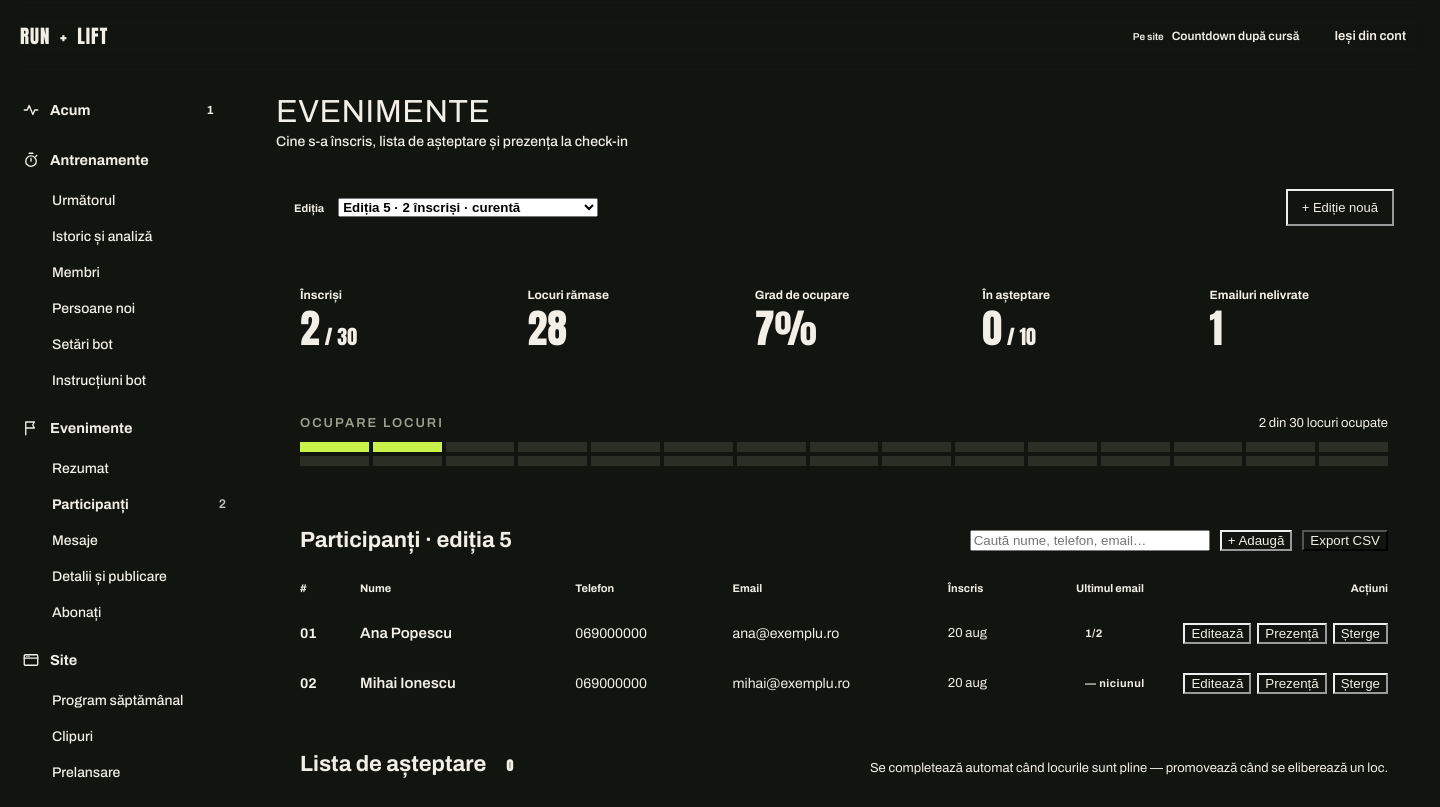
Test: AdminDashboard — căutarea în participanți › filtrează după email
The width and height of the screenshot is (1440, 807).
Expected: the text "Ana Popescu" is shown, x1=360 y1=625 x2=452 y2=641
Type "mihai@exemplu.ro" into the search field named "Caută în lista de participanți" at (1090, 540), box x1=970 y1=530 x2=1210 y2=550
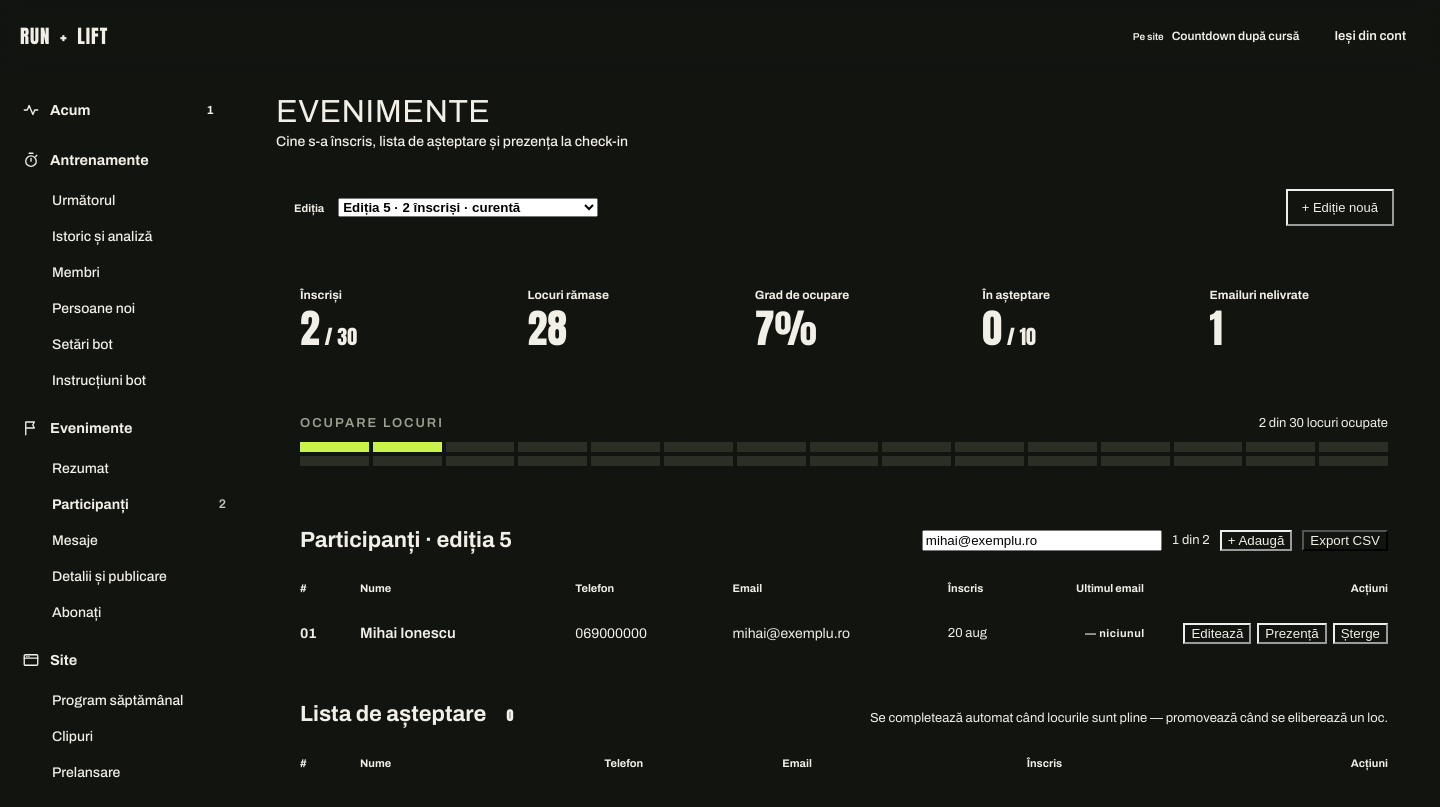
Expected: the text "Mihai Ionescu" is shown, x1=360 y1=625 x2=456 y2=641
Expected: the text "Ana Popescu" is gone
